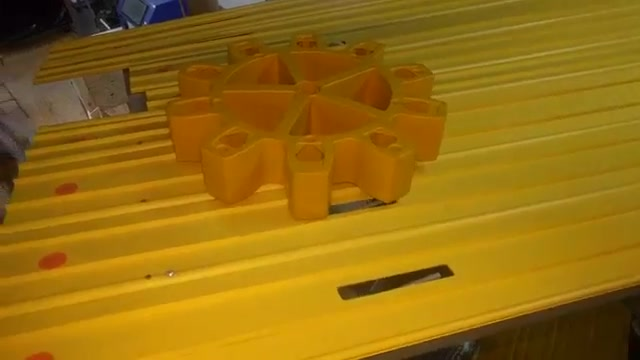gear: (165, 31, 453, 234)
